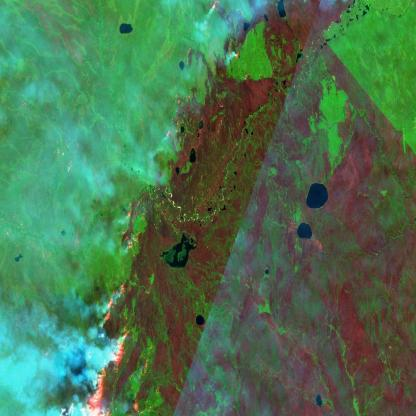fire: (82, 0, 246, 416)
